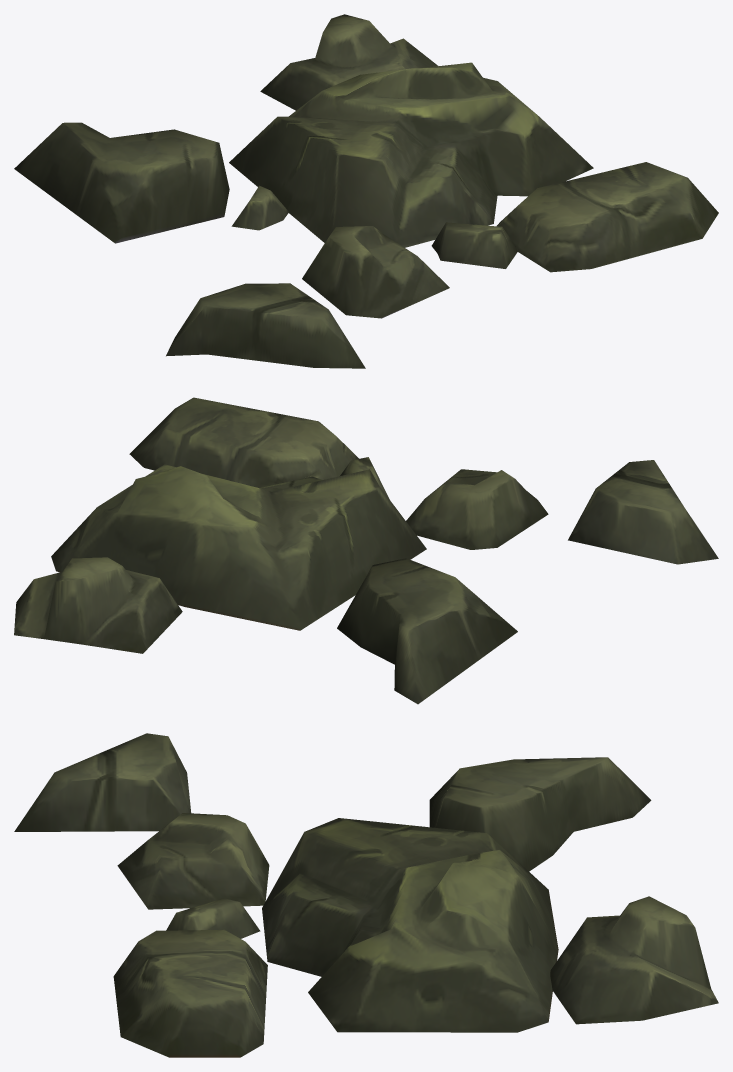
File: rocks_03.fbx
3 views of the same model, one above another, from view 1: azimuth 30°, elevation 25°; view 2: azimuth 150°, elevation 25°; view 3: azimuth 270°, elevation 25° (orthographic). The views are drawn at different scales.
Visible parts, largest first — view 1: rocks_03; view 2: rocks_03; view 3: rocks_03.
Part boxes in pixels (x1,y1,x2,y2): rocks_03: [14, 14, 718, 368]; rocks_03: [14, 397, 718, 704]; rocks_03: [14, 733, 718, 1057].
Size of the model in its own units: 348 by 54.79 by 347.
